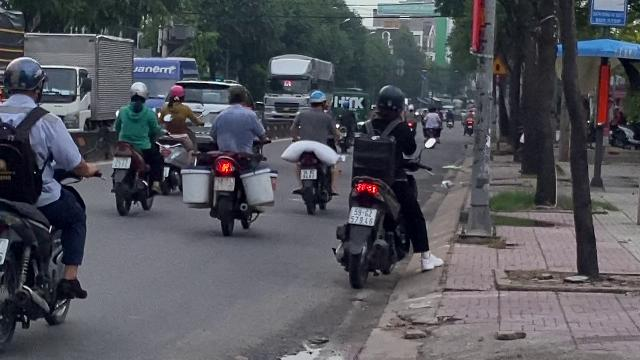helmet: (0, 56, 46, 102), (373, 84, 405, 118), (126, 81, 148, 105), (166, 84, 186, 104), (307, 90, 327, 109)
licenseplate: (348, 206, 376, 226), (214, 177, 234, 191), (112, 156, 130, 168), (300, 169, 316, 179)
motorcyclist: (0, 54, 100, 356), (335, 82, 431, 286), (201, 84, 273, 236), (281, 89, 343, 213), (108, 80, 162, 216), (156, 84, 198, 198)
nohelmet: (226, 84, 248, 108)
